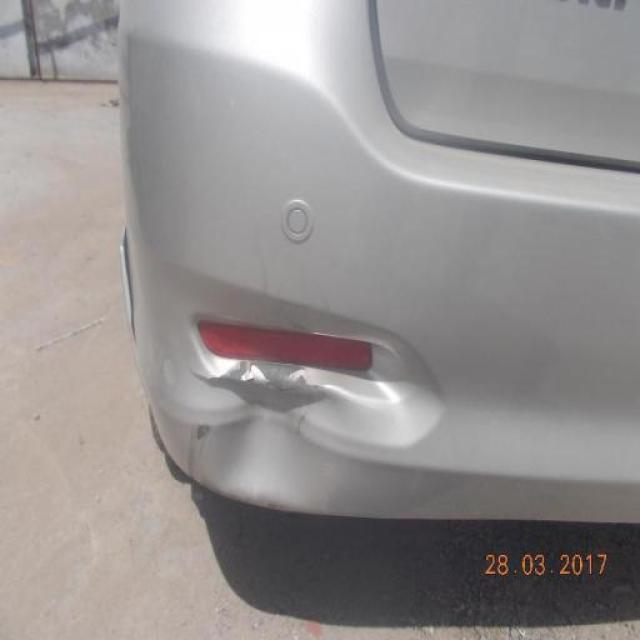dent: (197, 364, 351, 513)
